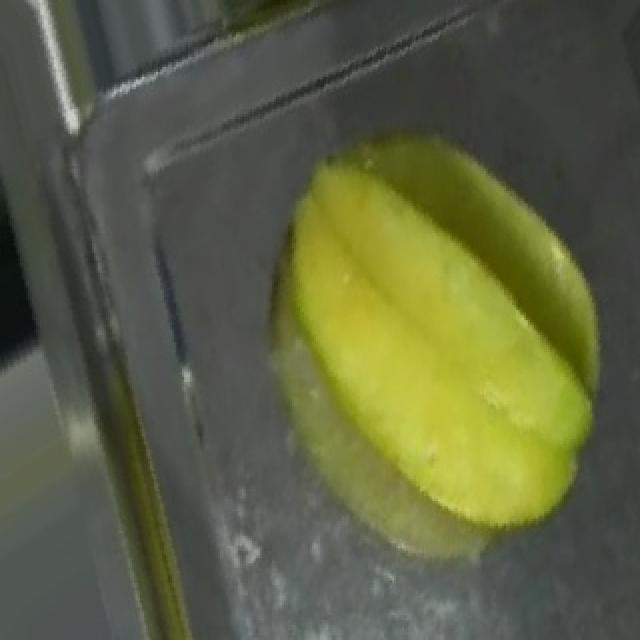fruit: (220, 92, 640, 560)
